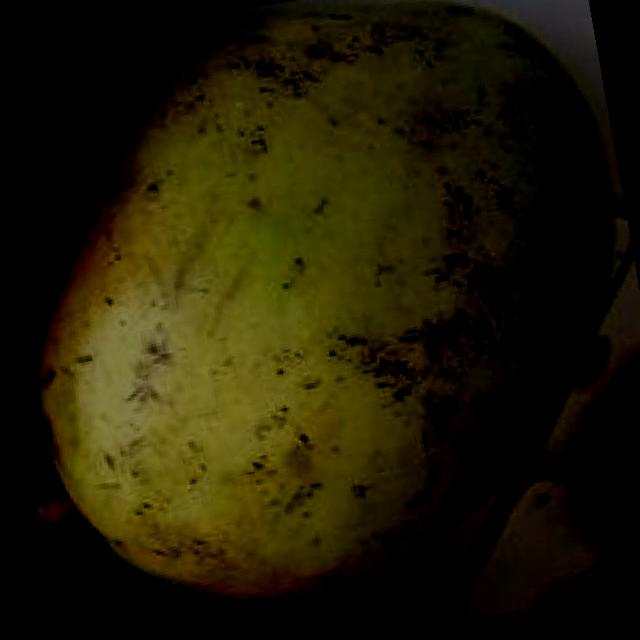Mango: (0, 0, 640, 640), (0, 46, 81, 354)
